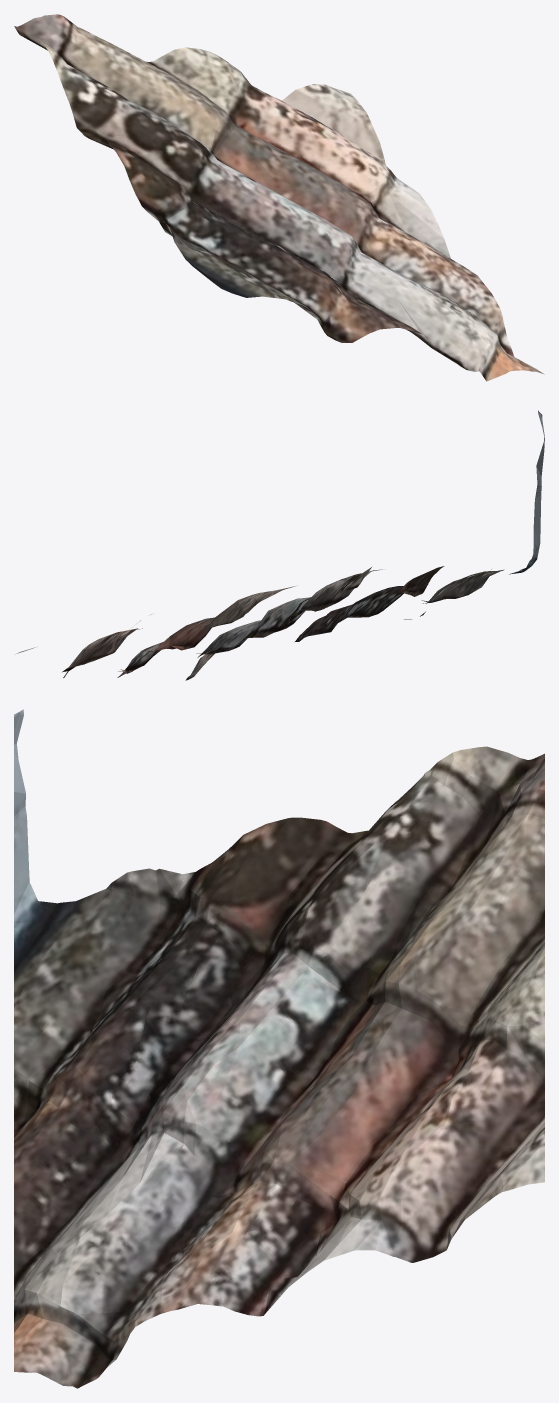
3 renders of one model, top to bottom at view 1: azimuth 30°, elevation 25°; view 2: azimuth 150°, elevation 25°; view 3: azimuth 270°, elevation 25°, orthographic. The views are drawn at different scales.
Bounding box in the file's own units: 0.8374 × 0.7918 × 0.8374.
Materials: 3 (3 with a texture image).
